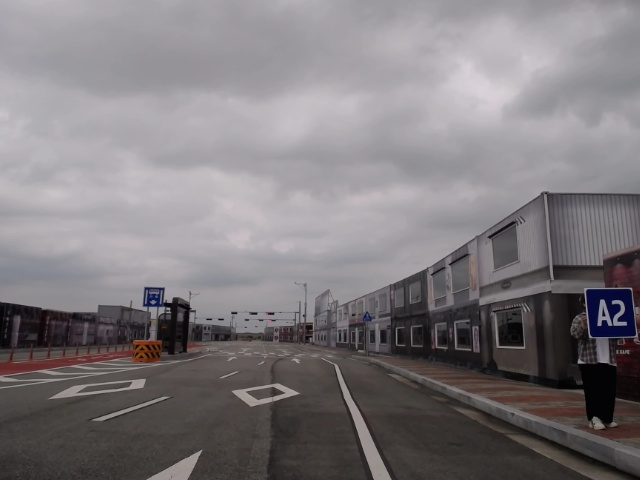delivery_a2: (585, 288, 637, 338)
